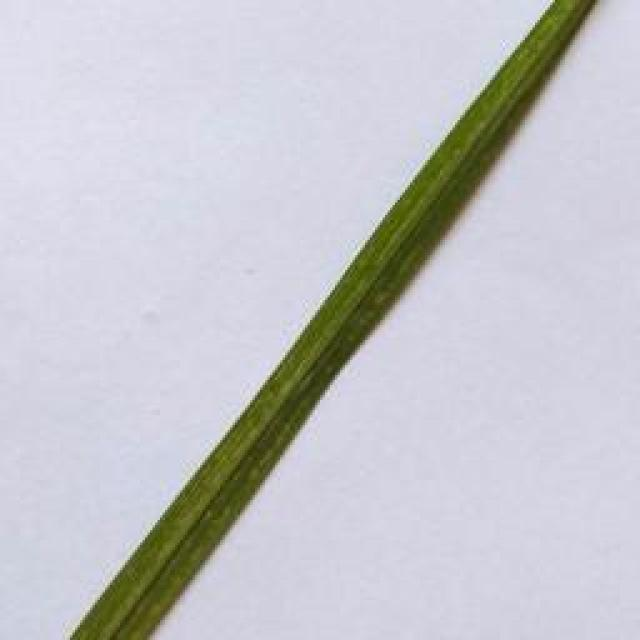Healthy-Plant: (77, 0, 595, 640)
